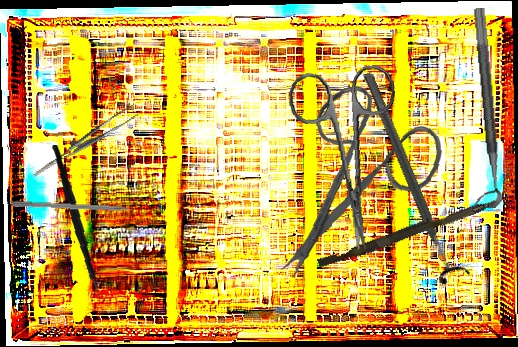Chopper: (41, 144, 122, 305)
Fixation Ring: (352, 66, 472, 288), (456, 7, 504, 210)
Iris Scissors: (267, 80, 451, 283), (286, 63, 411, 257)
Pusher: (317, 189, 505, 273), (10, 200, 150, 215)
Tissue Forceps: (24, 104, 144, 177)
